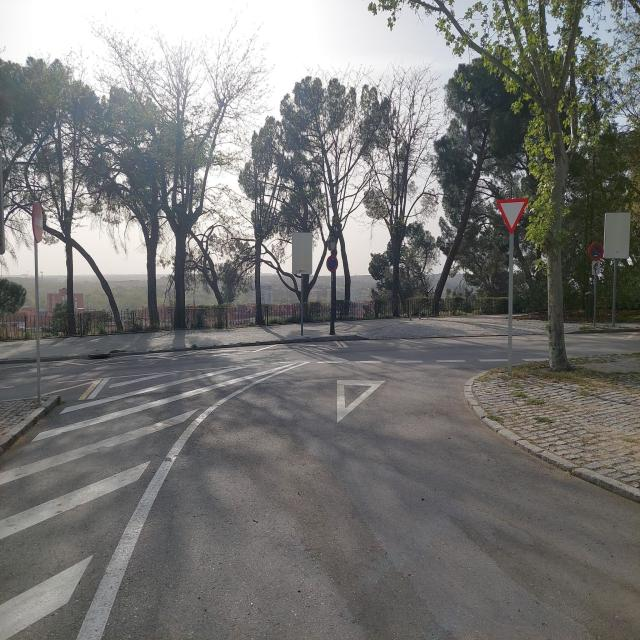forb_stopping: (326, 255, 338, 272), (326, 256, 338, 271)
